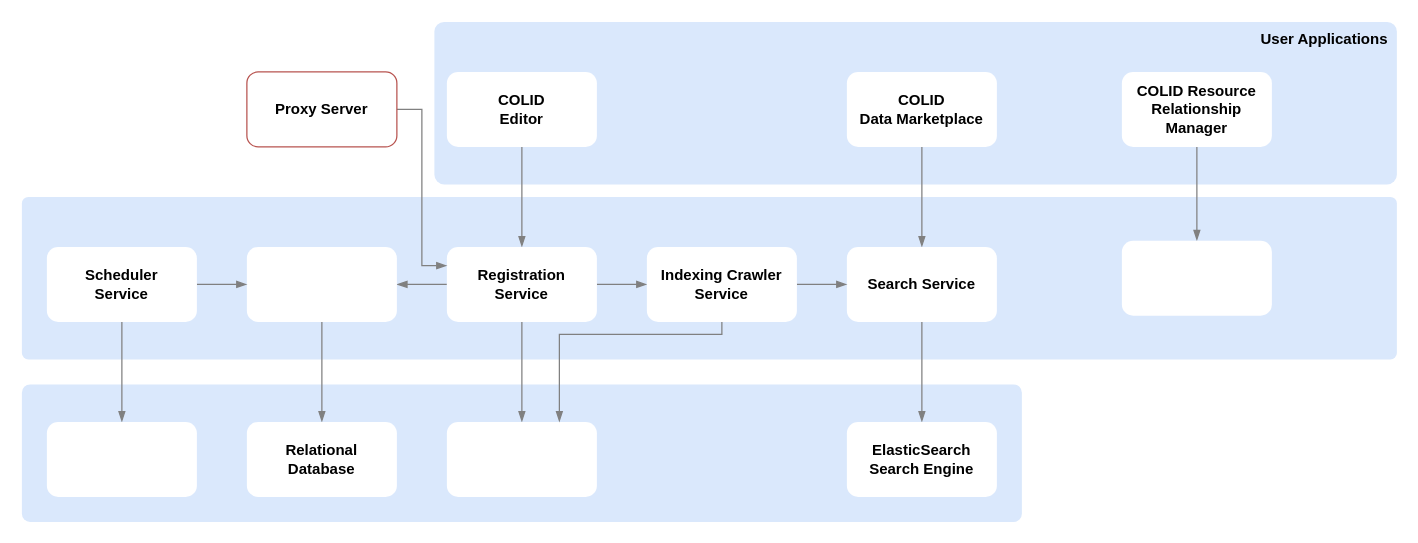
Image size: 1418x543. Some labels were removed from this diagram. The box of each missing label's shape, as (x1, y1, x2, y2) in pixels:
AppData Service: (246, 246, 396, 321)
Databases: (21, 384, 1021, 521)
E-Mail Service: (46, 421, 196, 496)
Graph Database: (446, 421, 596, 496)
Relationship Manager Service: (1121, 240, 1271, 315)
Services: (21, 196, 1396, 359)
